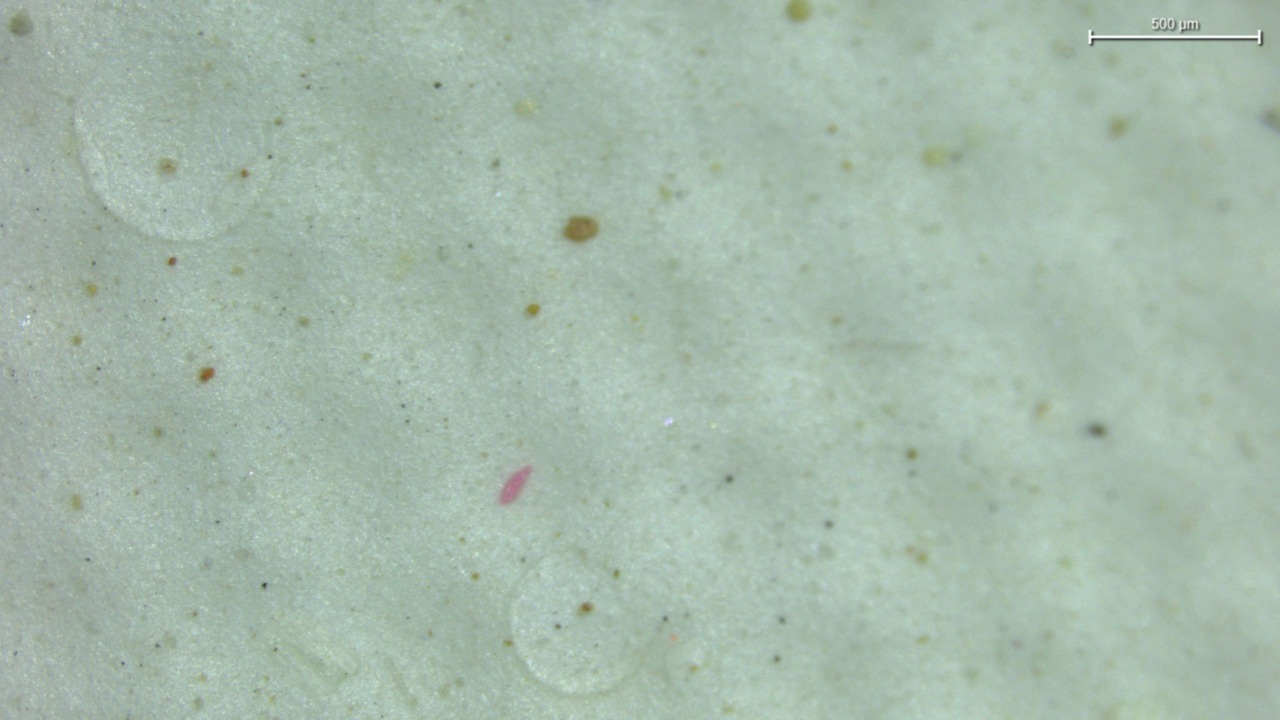microplastic_fragment: (499, 466, 532, 504)
